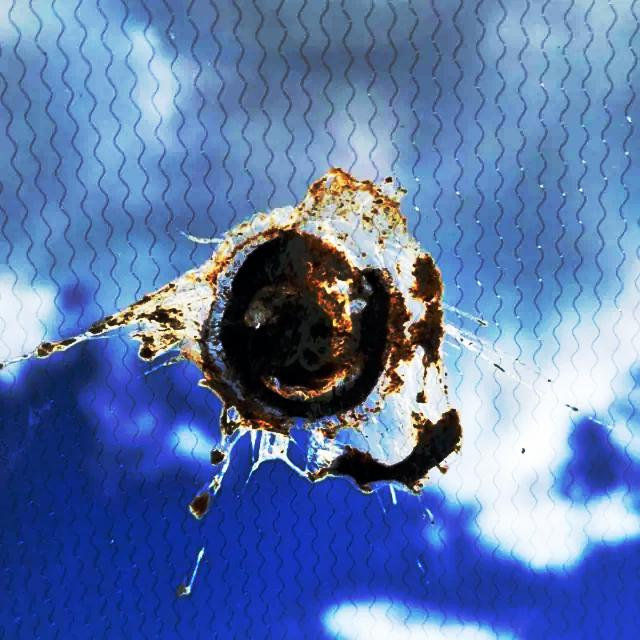Bird Poop: (33, 170, 461, 518), (178, 547, 204, 596)
